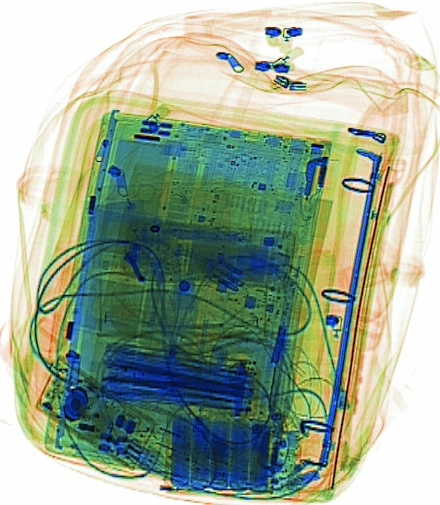powerbank: (165, 404, 302, 499)
